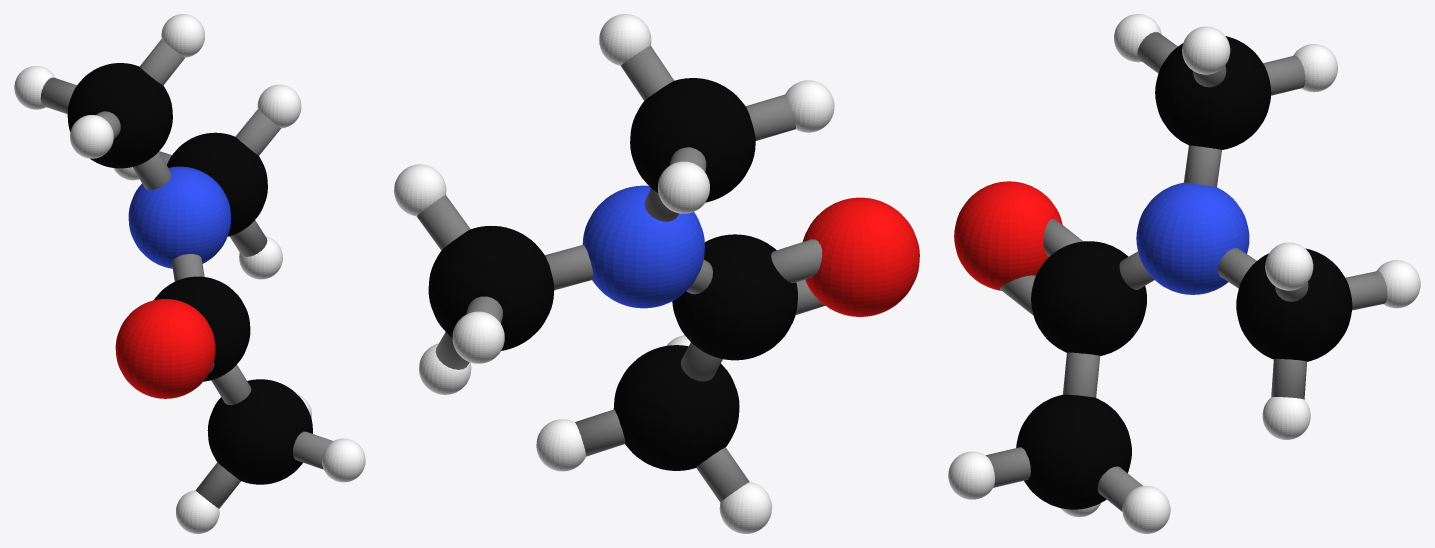
File: DIMETILACETAMIDA.obj
3 views of the same model, side by side, from view 1: azimuth 30°, elevation 25°; view 2: azimuth 150°, elevation 25°; view 3: azimuth 270°, elevation 25° (orthographic). The views are drawn at different scales.
Parts seen in each view (by area): view 1: Carbon_ball_Sphere, Hydrogen_ball_Sphere.001, Oxygen_ball_Sphere.003, Nitrogen_ball_Sphere.002, Stick_Cylinder.010_Cylinder.010, Stick_Cylinder.002_Cylinder.002, Stick_Cylinder.005_Cylinder.005, Stick_Cylinder.001_Cylinder.001, Stick_Cylinder.003_Cylinder.003, Stick_Cylinder.006_Cylinder.006, Stick_Cylinder.007_Cylinder.007, Stick_Cylinder.009_Cylinder.009 (+1 smaller); view 2: Carbon_ball_Sphere, Hydrogen_ball_Sphere.001, Nitrogen_ball_Sphere.002, Oxygen_ball_Sphere.003, Stick_Cylinder.013_Cylinder.013, Stick_Cylinder.005_Cylinder.005, Stick_Cylinder.010_Cylinder.010, Stick_Cylinder.004_Cylinder.004, Stick_Cylinder.002_Cylinder.002, Stick_Cylinder_Cylinder, Stick_Cylinder.011_Cylinder.011, Stick_Cylinder.003_Cylinder.003 (+1 smaller); view 3: Carbon_ball_Sphere, Hydrogen_ball_Sphere.001, Nitrogen_ball_Sphere.002, Oxygen_ball_Sphere.003, Stick_Cylinder.003_Cylinder.003, Stick_Cylinder.009_Cylinder.009, Stick_Cylinder.007_Cylinder.007, Stick_Cylinder.001_Cylinder.001, Stick_Cylinder.008_Cylinder.008, Stick_Cylinder.006_Cylinder.006, Stick_Cylinder_Cylinder, Stick_Cylinder.004_Cylinder.004 (+4 smaller).
Part boxes in pixels (bbox=[...]): Carbon_ball_Sphere: bbox=[67, 63, 312, 484]; Hydrogen_ball_Sphere.001: bbox=[14, 14, 365, 533]; Oxygen_ball_Sphere.003: bbox=[115, 299, 215, 398]; Nitrogen_ball_Sphere.002: bbox=[128, 166, 231, 268]; Stick_Cylinder.010_Cylinder.010: bbox=[235, 109, 280, 155]; Stick_Cylinder.002_Cylinder.002: bbox=[195, 462, 240, 508]; Stick_Cylinder.005_Cylinder.005: bbox=[139, 39, 184, 85]; Stick_Cylinder.001_Cylinder.001: bbox=[293, 431, 332, 469]; Stick_Cylinder.003_Cylinder.003: bbox=[211, 364, 251, 404]; Stick_Cylinder.006_Cylinder.006: bbox=[40, 77, 76, 113]; Stick_Cylinder.007_Cylinder.007: bbox=[133, 152, 171, 190]; Stick_Cylinder.009_Cylinder.009: bbox=[229, 220, 267, 256]; Carbon_ball_Sphere: bbox=[428, 78, 797, 470]; Hydrogen_ball_Sphere.001: bbox=[394, 14, 834, 533]; Nitrogen_ball_Sphere.002: bbox=[582, 185, 704, 308]; Oxygen_ball_Sphere.003: bbox=[802, 197, 919, 316]; Stick_Cylinder.013_Cylinder.013: bbox=[771, 239, 822, 283]; Stick_Cylinder.005_Cylinder.005: bbox=[621, 45, 674, 100]; Stick_Cylinder.010_Cylinder.010: bbox=[417, 195, 470, 250]; Stick_Cylinder.004_Cylinder.004: bbox=[746, 94, 795, 140]; Stick_Cylinder.002_Cylinder.002: bbox=[696, 447, 749, 502]; Stick_Cylinder_Cylinder: bbox=[575, 409, 625, 456]; Stick_Cylinder.011_Cylinder.011: bbox=[545, 245, 593, 290]; Stick_Cylinder.003_Cylinder.003: bbox=[681, 342, 722, 381]; Carbon_ball_Sphere: bbox=[1016, 36, 1352, 509]; Hydrogen_ball_Sphere.001: bbox=[948, 14, 1420, 533]; Nitrogen_ball_Sphere.002: bbox=[1136, 182, 1249, 294]; Oxygen_ball_Sphere.003: bbox=[954, 181, 1062, 290]; Stick_Cylinder.003_Cylinder.003: bbox=[1063, 352, 1100, 397]; Stick_Cylinder.009_Cylinder.009: bbox=[1271, 359, 1306, 399]; Stick_Cylinder.007_Cylinder.007: bbox=[1184, 145, 1221, 187]; Stick_Cylinder.001_Cylinder.001: bbox=[986, 447, 1030, 487]; Stick_Cylinder.008_Cylinder.008: bbox=[1345, 271, 1387, 310]; Stick_Cylinder.006_Cylinder.006: bbox=[1263, 55, 1305, 95]; Stick_Cylinder_Cylinder: bbox=[1097, 466, 1142, 511]; Stick_Cylinder.004_Cylinder.004: bbox=[1137, 32, 1177, 73].
Size of the model in its own units: 4.6 by 6.71 by 5.64.
